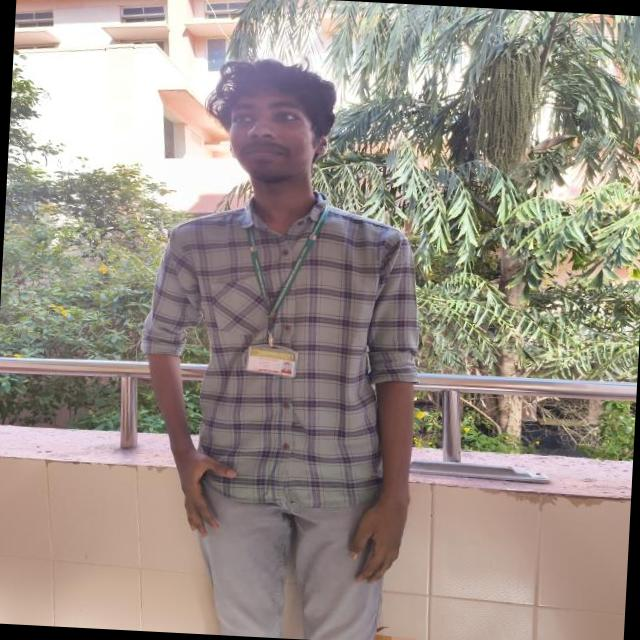id_card: (237, 196, 334, 376)
